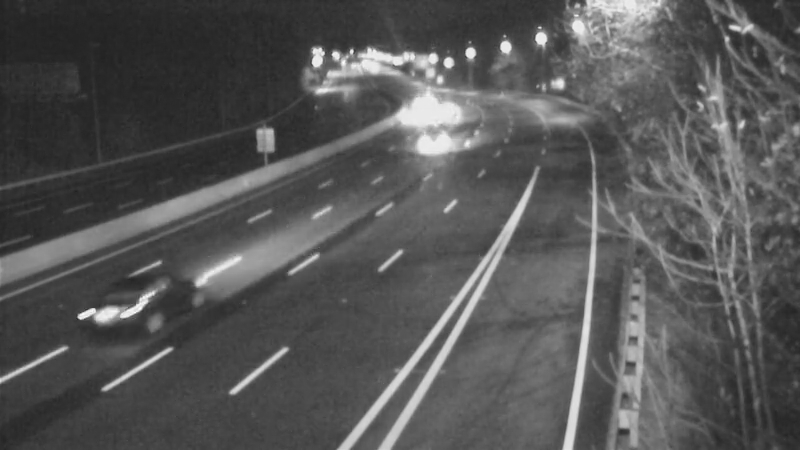vehicle: (84, 258, 164, 338), (395, 73, 445, 123), (425, 84, 475, 134), (386, 91, 436, 141), (406, 99, 456, 149), (411, 119, 461, 169)
